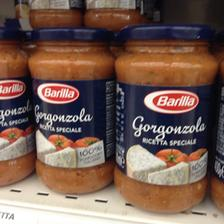Tomatensauce: (111, 24, 216, 216), (25, 25, 115, 195)
